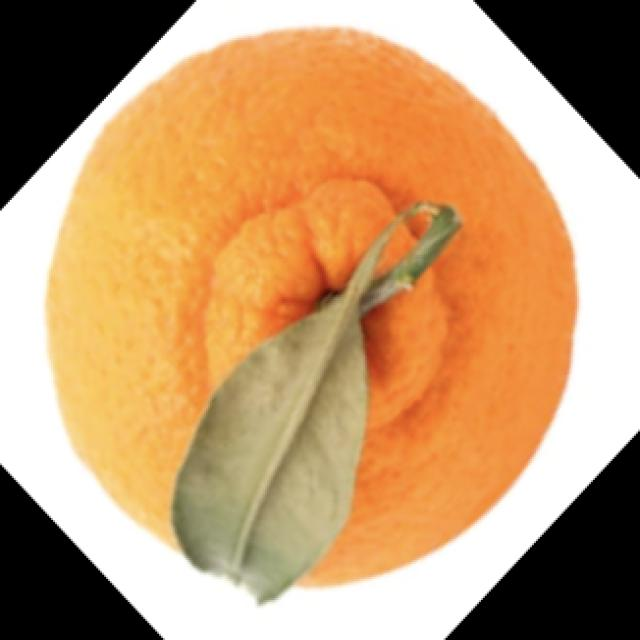orange: (60, 31, 590, 586)
